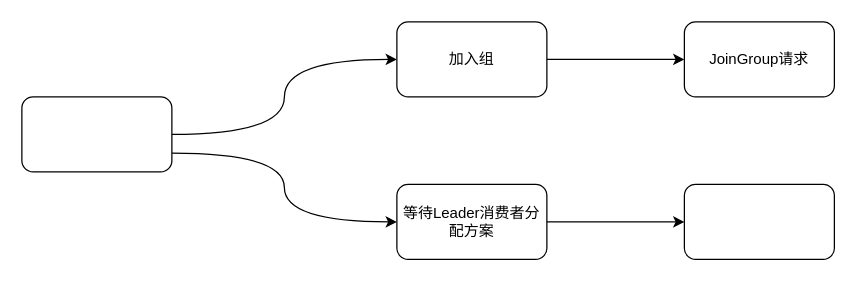
Some shapes in this 856 by 281 pixel diagram are drawn without their labels. Here are the shapes that lost their labels. From the top down, the centre of each, then its label:
the point at 96,134: 消费端
the point at 758,221: SyncGroup请求
